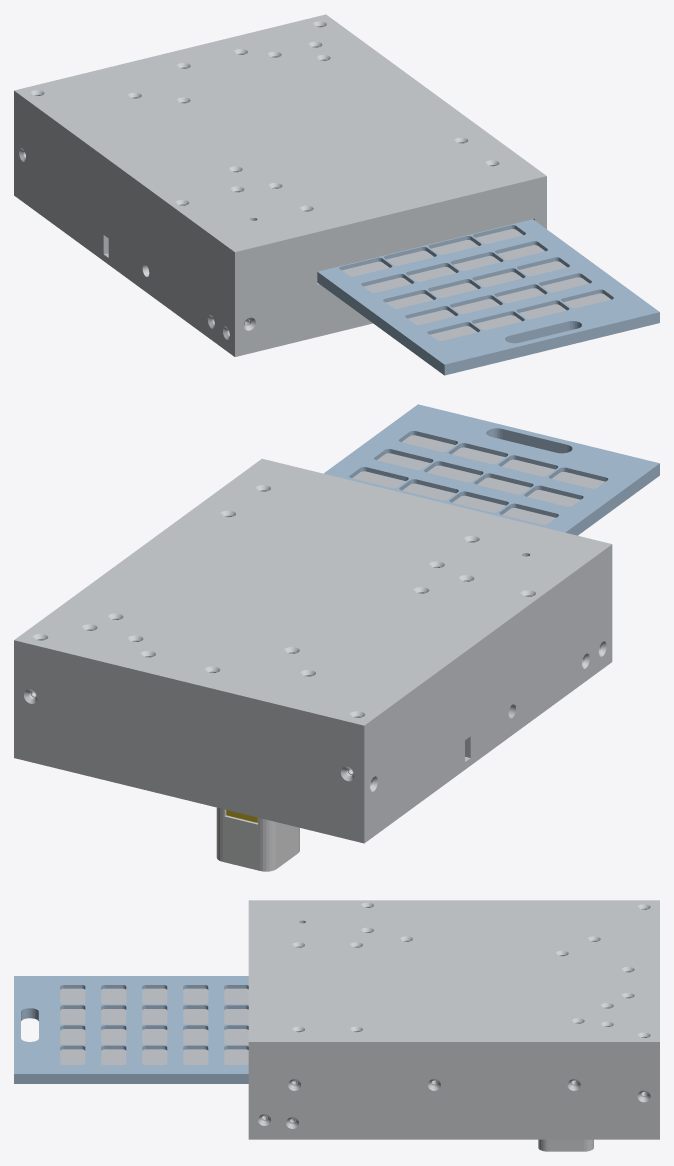
The model's file is rakitan.glb.
3 views of the same model, one above another, from view 1: azimuth 30°, elevation 25°; view 2: azimuth 150°, elevation 25°; view 3: azimuth 270°, elevation 25° (orthographic). The views are drawn at different scales.
Visible parts, largest first — view 1: dinding_1, wadah_38, dinding_4, dinding_2, foil_40, dinding_0; view 2: dinding_1, dinding_3, dinding_4, wadah_38, foil_40, dinding_0, rangka_18; view 3: dinding_1, dinding_5, wadah_38, foil_40, dinding_0, rangka_18, dinding_2, dinding_3.
Boxes of the visible parts, x1,y1,x2,y2 form: dinding_1: [14, 14, 546, 257]; wadah_38: [317, 219, 659, 375]; dinding_4: [17, 99, 231, 348]; dinding_2: [231, 182, 546, 351]; foil_40: [342, 229, 610, 340]; dinding_0: [14, 190, 372, 356]; dinding_1: [14, 458, 612, 731]; dinding_3: [14, 647, 367, 836]; dinding_4: [368, 553, 608, 833]; wadah_38: [324, 404, 659, 535]; foil_40: [352, 435, 605, 524]; dinding_0: [14, 656, 612, 843]; rangka_18: [216, 807, 299, 871]; dinding_1: [248, 900, 659, 1047]; dinding_5: [254, 1047, 653, 1134]; wadah_38: [14, 976, 295, 1083]; foil_40: [60, 988, 248, 1064]; dinding_0: [248, 1134, 659, 1139]; rangka_18: [538, 1139, 593, 1151]; dinding_2: [248, 1047, 254, 1134]; dinding_3: [654, 1047, 659, 1134].
Size of the model in its own units: 168 by 96 by 324.
